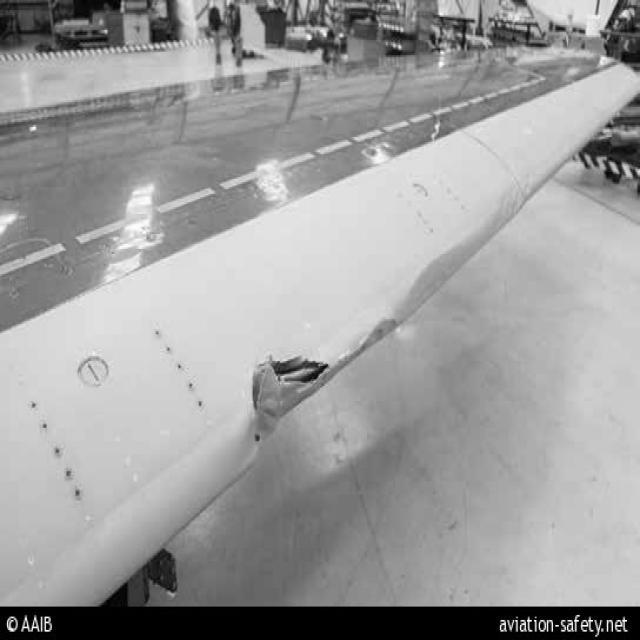crack: (244, 350, 330, 452)
dent: (408, 220, 502, 314), (362, 318, 399, 356)
